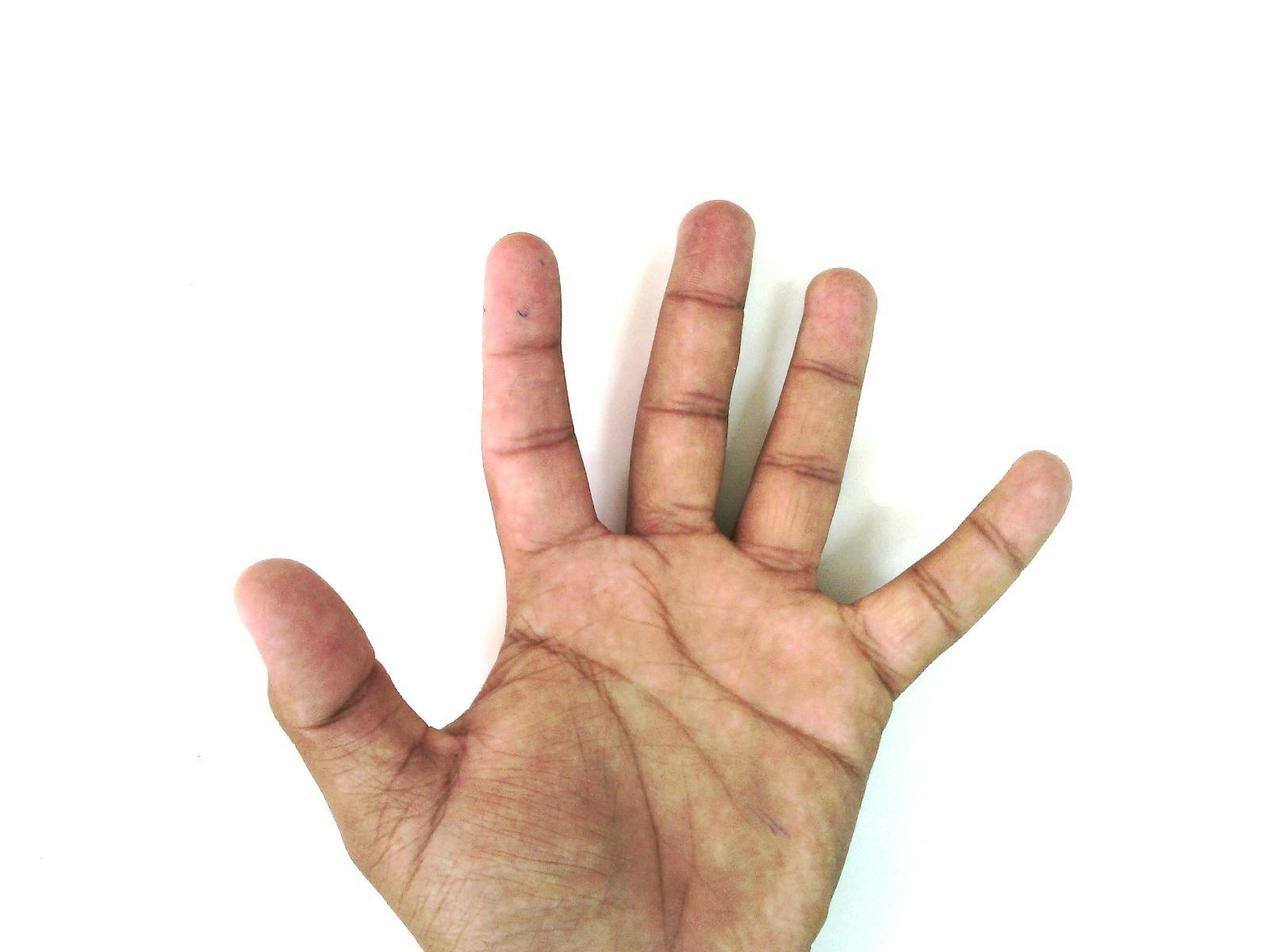open_palm: (232, 198, 1075, 952)
